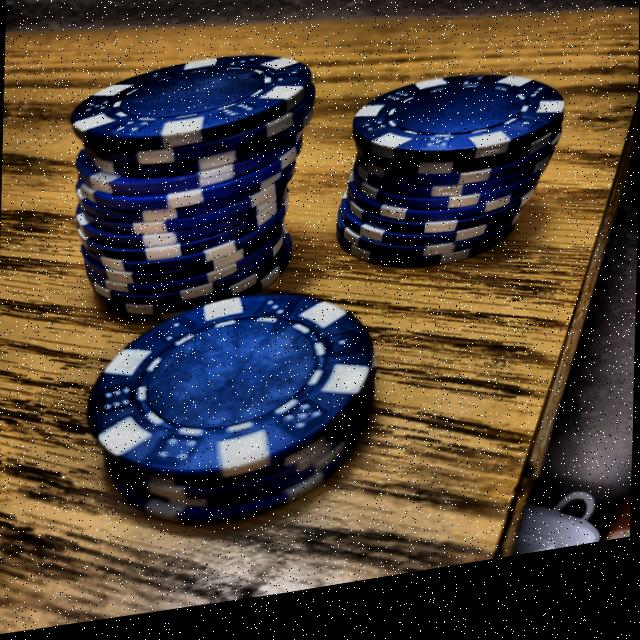Chip: (44, 273, 393, 565), (50, 43, 329, 346), (332, 51, 573, 312)
